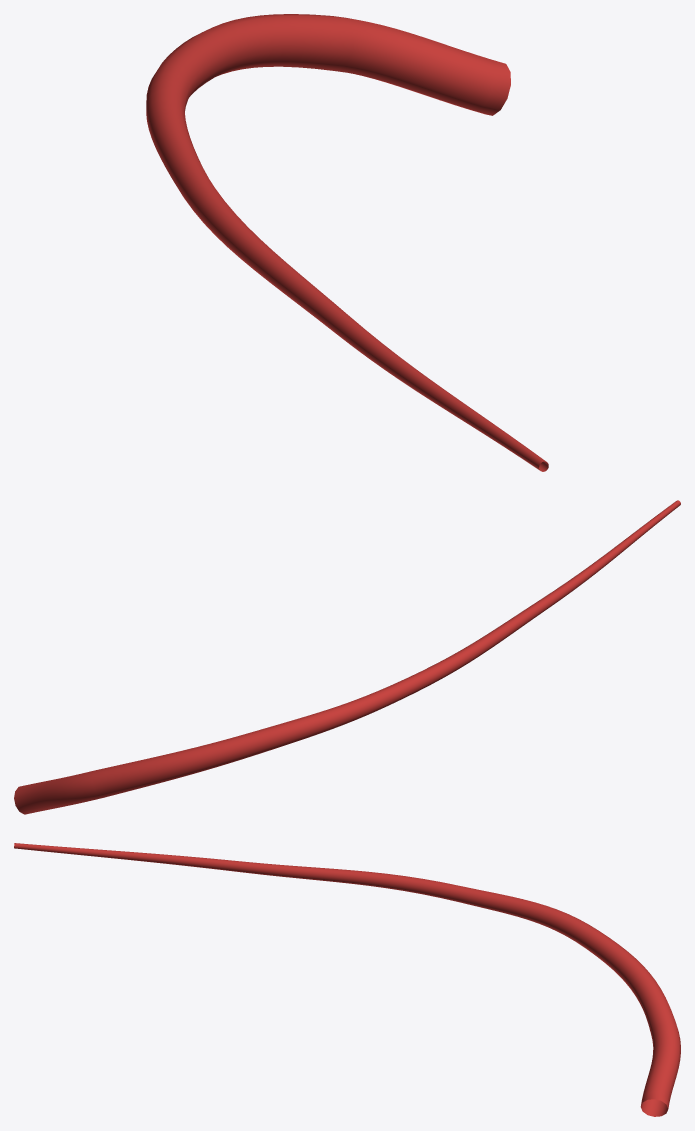
3 views of the same model, one above another, from view 1: azimuth 30°, elevation 25°; view 2: azimuth 150°, elevation 25°; view 3: azimuth 270°, elevation 25° (orthographic). The views are drawn at different scales.
Parts seen in each view (by area): view 1: 左侧脑膜中动脉; view 2: 左侧脑膜中动脉; view 3: 左侧脑膜中动脉.
Boxes of the visible parts, x1,y1,x2,y2 form: 左侧脑膜中动脉: (146,14,548,471); 左侧脑膜中动脉: (14,500,680,814); 左侧脑膜中动脉: (14,843,680,1116).
Bounding box in the file's own units: 0.0186 × 0.00769 × 0.0353.
